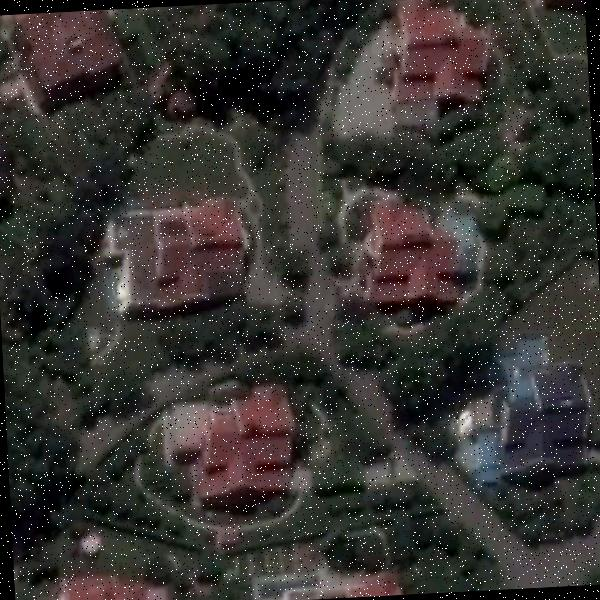Buildings: (184, 384, 294, 498), (128, 206, 254, 305), (366, 209, 472, 318), (498, 353, 588, 461), (404, 3, 484, 100), (28, 16, 112, 84), (286, 572, 404, 600), (56, 576, 166, 600)
